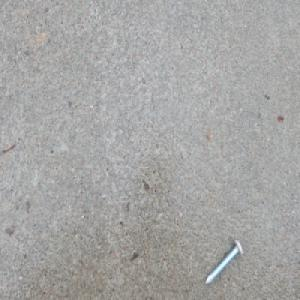Nail: (205, 237, 243, 287)
